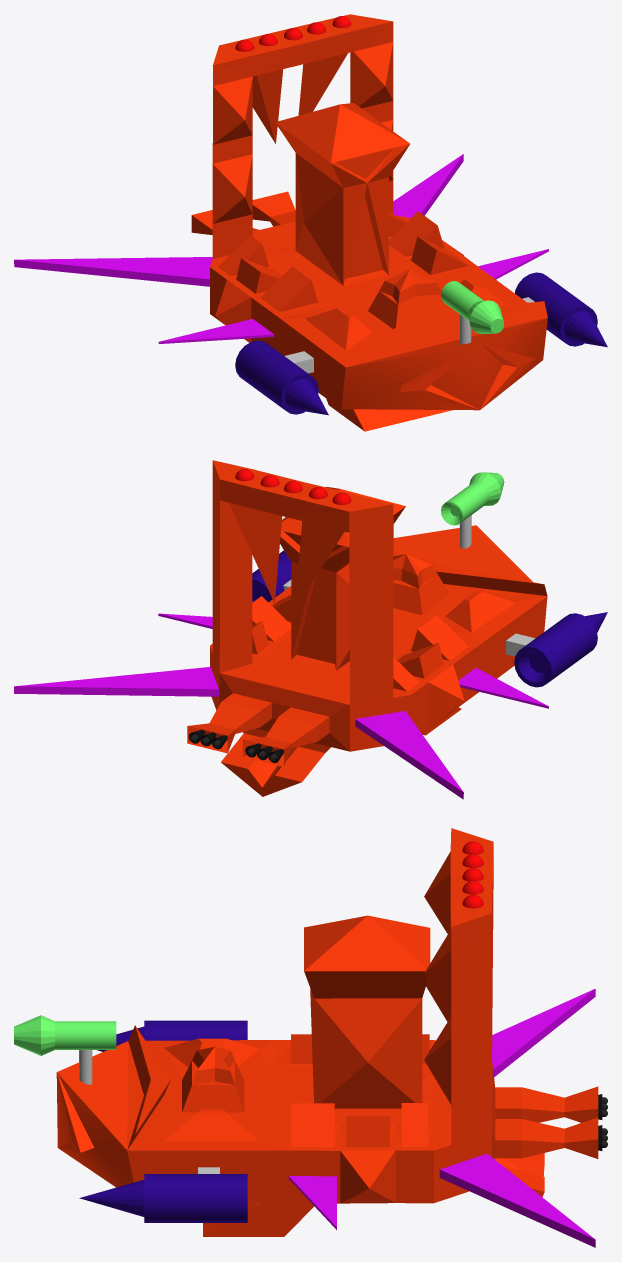
The model's file is Nave con materiales.fbx.
3 views of the same model, one above another, from view 1: azimuth 30°, elevation 25°; view 2: azimuth 150°, elevation 25°; view 3: azimuth 270°, elevation 25° (orthographic). The views are drawn at different scales.
Visible parts, largest first — view 1: Nave, Cohete ataque 1, Ala grande 2, Cohete ataque 2, Cohete grande, Ala grande 1, Ala 1, Ala 2; view 2: Nave, Ala grande 1, Cohete ataque 1, Ala grande 2, Cohete grande, Ala 1, Cohete ataque 2; view 3: Nave, Cohete ataque 2, Ala grande 1, Cohete grande, Ala grande 2, Cohete ataque 1, Ala 2.
Boxes of the visible parts, box(x1,y1,x2,y2) form: Nave: box(191, 14, 547, 431); Cohete ataque 1: box(235, 340, 328, 415); Ala grande 2: box(14, 257, 212, 286); Cohete ataque 2: box(515, 272, 607, 347); Cohete grande: box(441, 281, 504, 334); Ala grande 1: box(393, 154, 463, 217); Ala 1: box(158, 319, 274, 343); Ala 2: box(478, 249, 548, 279); Nave: box(187, 460, 547, 796); Ala grande 1: box(14, 667, 218, 696); Cohete ataque 1: box(514, 612, 607, 687); Ala grande 2: box(355, 711, 463, 799); Cohete grande: box(441, 472, 504, 525); Ala 1: box(458, 667, 548, 708); Cohete ataque 2: box(252, 550, 291, 602); Nave: box(56, 828, 598, 1236); Cohete ataque 2: box(79, 1174, 247, 1222); Ala grande 1: box(439, 1153, 595, 1247); Cohete grande: box(14, 1015, 116, 1055); Ala grande 2: box(492, 988, 595, 1077); Cohete ataque 1: box(97, 1020, 247, 1051); Ala 2: box(288, 1176, 336, 1229).
Bounding box in the file's own units: 140 × 90.41 × 143.
